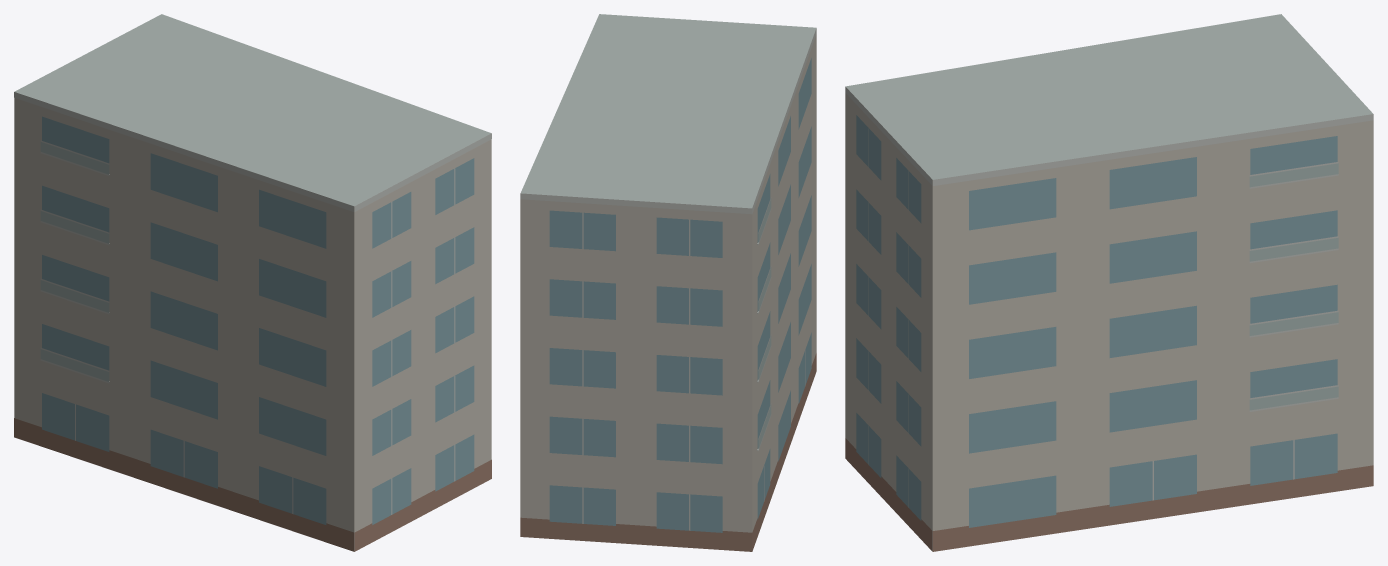
Rendered from survey-upis-32887603.glb.
3 views of the same model, side by side, from view 1: azimuth 30°, elevation 25°; view 2: azimuth 150°, elevation 25°; view 3: azimuth 270°, elevation 25° (orthographic). The views are drawn at different scales.
Visible parts, largest first — view 1: survey-upis-32887603.tmp; view 2: survey-upis-32887603.tmp; view 3: survey-upis-32887603.tmp.
Part boxes in pixels (x1,y1,x2,y2): survey-upis-32887603.tmp: [14, 14, 491, 551]; survey-upis-32887603.tmp: [520, 14, 816, 551]; survey-upis-32887603.tmp: [845, 14, 1373, 551].
Bounding box in the file's own units: 13.78 × 14.4 × 18.54.
